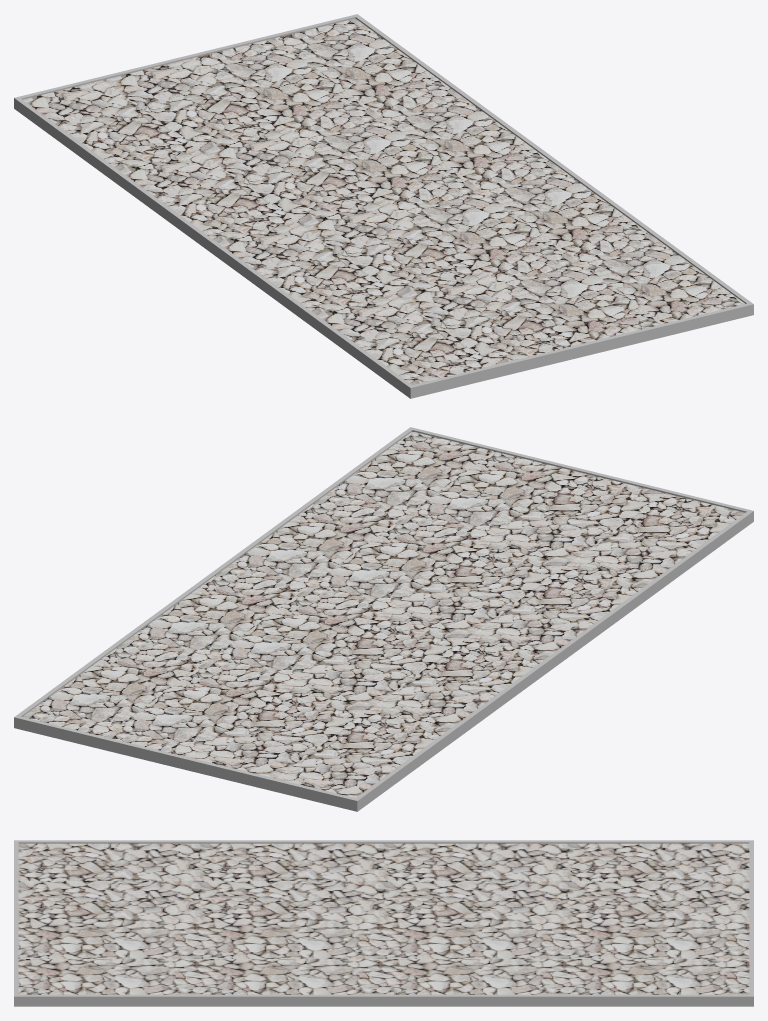
File: gravelbıg.fbx
3 views of the same model, one above another, from view 1: azimuth 30°, elevation 25°; view 2: azimuth 150°, elevation 25°; view 3: azimuth 270°, elevation 25° (orthographic). The views are drawn at different scales.
Parts seen in each view (by area): view 1: StoneM, Icosphere.003, Icosphere.002; view 2: StoneM, Icosphere.003, Icosphere.002; view 3: StoneM, Icosphere.002, Icosphere.003.
Boxes of the visible parts, bbox=[...] form: StoneM: bbox=[100, 35, 667, 377]; Icosphere.003: bbox=[14, 77, 496, 398]; Icosphere.002: bbox=[272, 14, 753, 335]; StoneM: bbox=[100, 448, 667, 790]; Icosphere.003: bbox=[271, 490, 753, 811]; Icosphere.002: bbox=[14, 427, 495, 748]; StoneM: bbox=[14, 879, 753, 958]; Icosphere.002: bbox=[14, 957, 753, 1006]; Icosphere.003: bbox=[14, 840, 753, 880].
Bounding box in the file's own units: 1 × 2 × 0.03.
